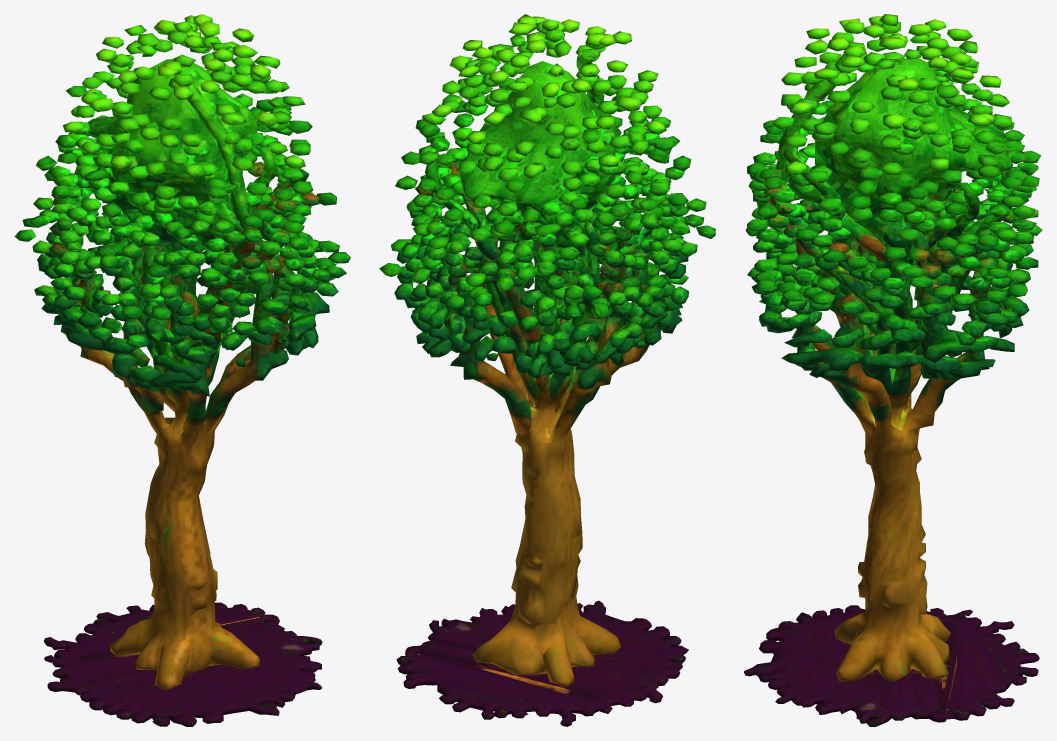
Rendered from emerald_canopy_1.glb.
3 renders of one model, left to right at view 1: azimuth 30°, elevation 25°; view 2: azimuth 150°, elevation 25°; view 3: azimuth 270°, elevation 25°, orthographic.
Bounding box in the file's own units: 0.7789 × 1.9 × 0.7906.
Materials: 1 (1 with a texture image).
